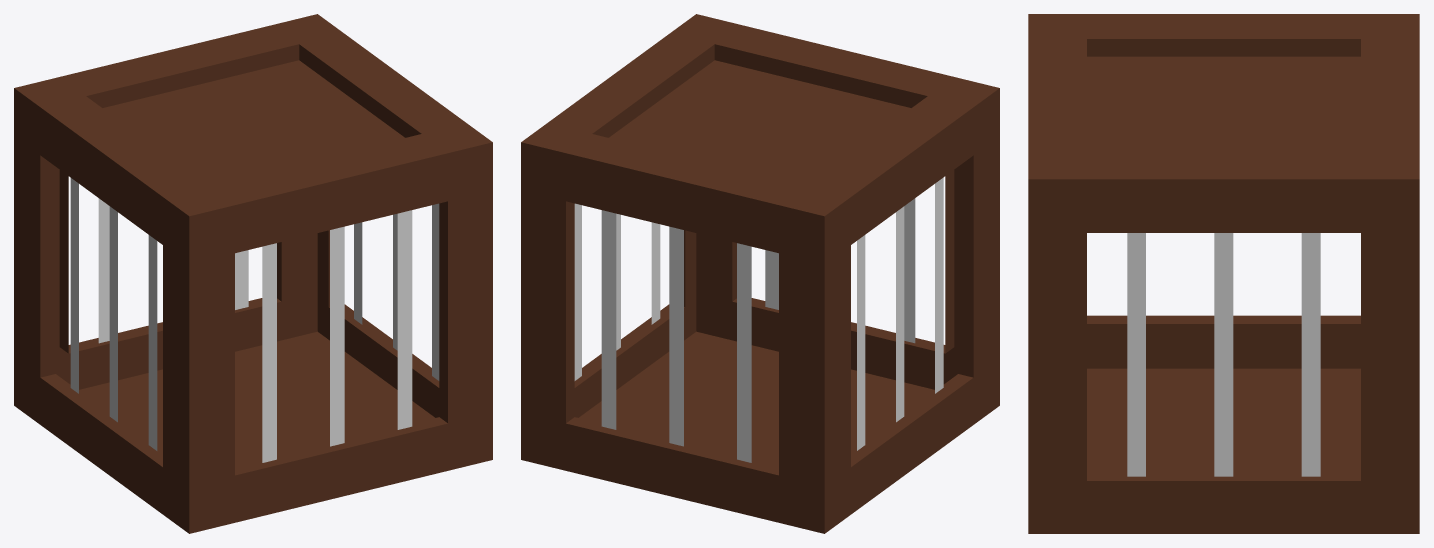
File: Wooden Boxes.fbx
3 views of the same model, side by side, from view 1: azimuth 30°, elevation 25°; view 2: azimuth 150°, elevation 25°; view 3: azimuth 270°, elevation 25° (orthographic). The views are drawn at different scales.
Parts seen in each view (by area): view 1: Cube.010; view 2: Cube.010; view 3: Cube.010.
Part boxes in pixels (x1=…): Cube.010: x1=14, y1=14, x2=492, y2=533; Cube.010: x1=521, y1=14, x2=999, y2=533; Cube.010: x1=1028, y1=14, x2=1419, y2=533.
Bounding box in the file's own units: 200 × 200 × 200.
